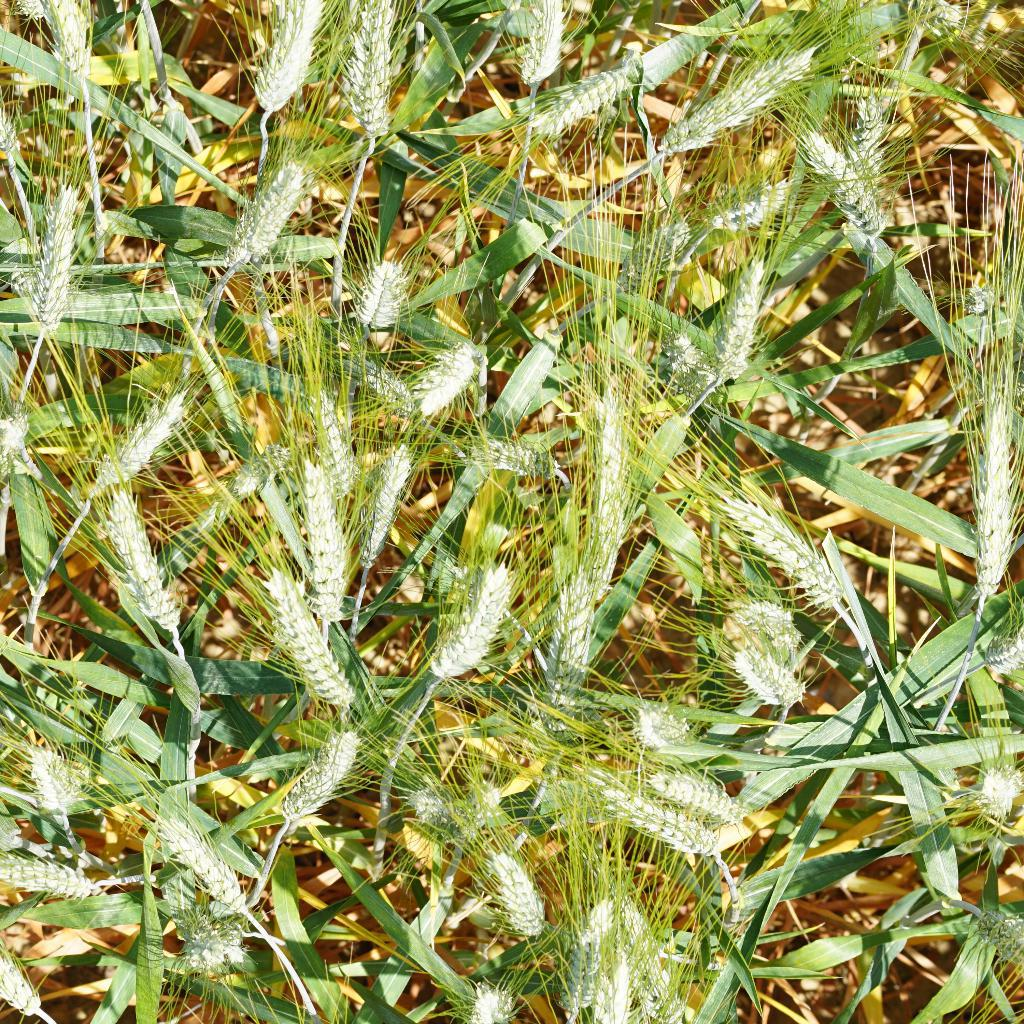0-0: (656, 27, 810, 165), (63, 387, 202, 511), (257, 565, 366, 718), (97, 479, 194, 649), (720, 493, 848, 617), (604, 784, 751, 890), (579, 378, 646, 587), (220, 146, 313, 279), (246, 731, 362, 837), (645, 743, 778, 834), (15, 179, 89, 342), (971, 372, 1020, 612), (340, 0, 411, 165), (148, 813, 251, 925), (527, 48, 649, 142), (291, 459, 354, 638), (421, 564, 515, 680), (788, 118, 882, 231), (200, 436, 310, 530), (709, 635, 830, 720), (249, 0, 328, 127), (704, 251, 774, 393), (551, 891, 624, 1024), (541, 546, 602, 697), (603, 892, 668, 1024), (477, 847, 560, 948), (690, 161, 802, 235), (609, 202, 691, 296), (301, 380, 360, 504), (347, 254, 419, 350), (17, 0, 96, 85), (955, 739, 1024, 835), (0, 851, 108, 911), (361, 437, 407, 576), (657, 311, 723, 402), (717, 580, 803, 647), (508, 0, 568, 96), (849, 89, 907, 179), (425, 336, 485, 419), (588, 944, 644, 1024), (0, 917, 44, 1016), (25, 743, 78, 825), (478, 426, 559, 479), (625, 698, 696, 755), (357, 350, 419, 415), (937, 265, 1006, 321), (972, 894, 1024, 967), (897, 0, 972, 50), (171, 923, 249, 971), (0, 398, 41, 486), (456, 972, 523, 1024), (979, 617, 1024, 683), (455, 770, 507, 825), (400, 776, 448, 829), (0, 692, 26, 766)
